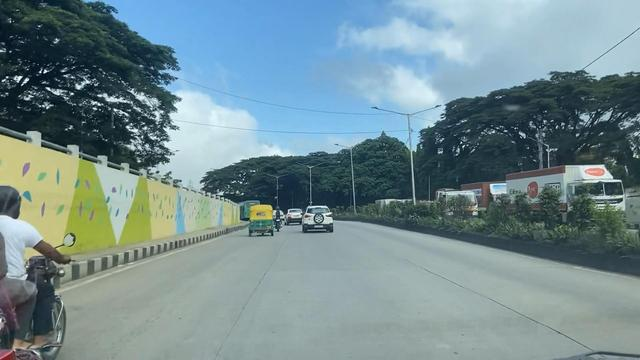LMV: (306, 207, 332, 231), (250, 206, 271, 235)
